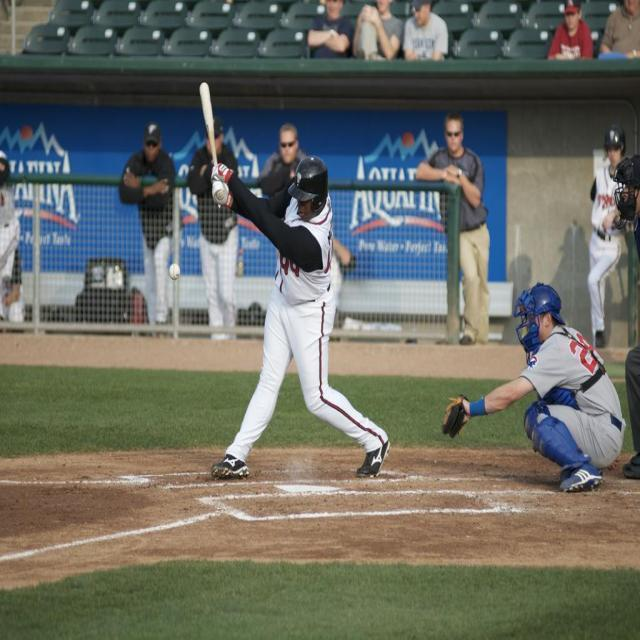baseball bat: (197, 80, 221, 174)
sports ball: (168, 263, 180, 281)
